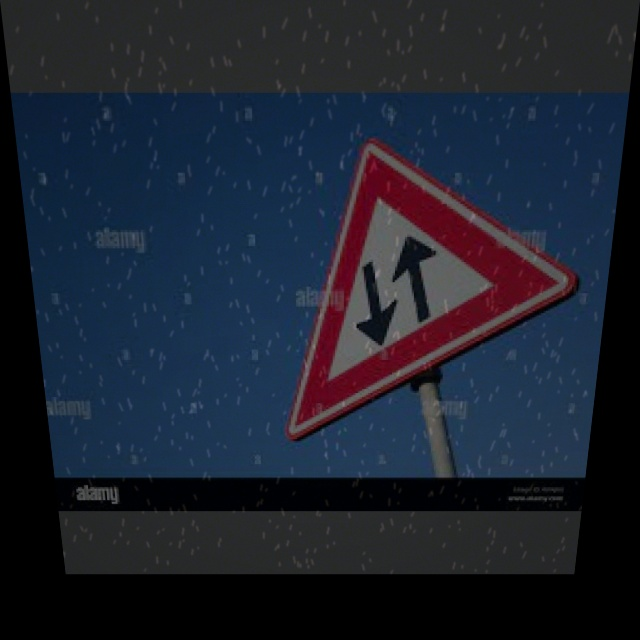Mandatory_Two_Way_Traffic: (278, 143, 582, 412)
